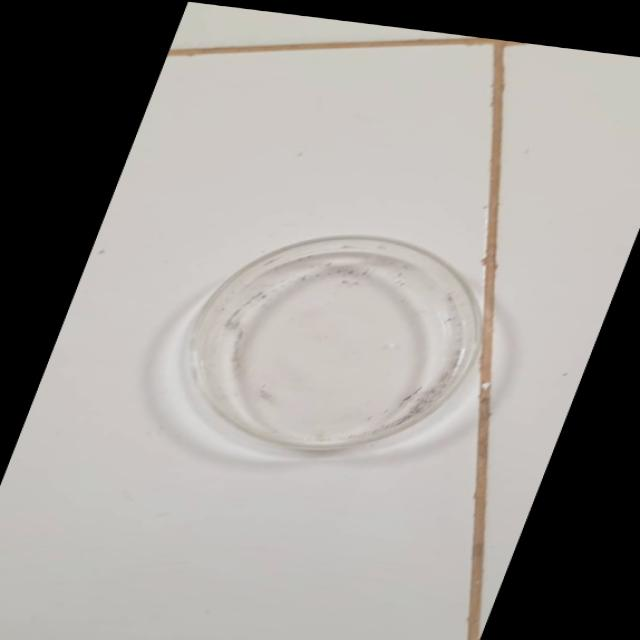Pedrish: (137, 207, 524, 471)
